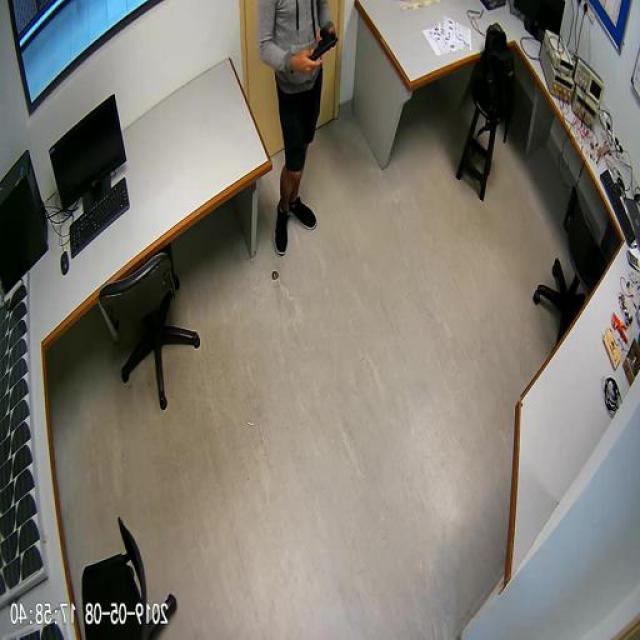Gun: (310, 26, 340, 60)
